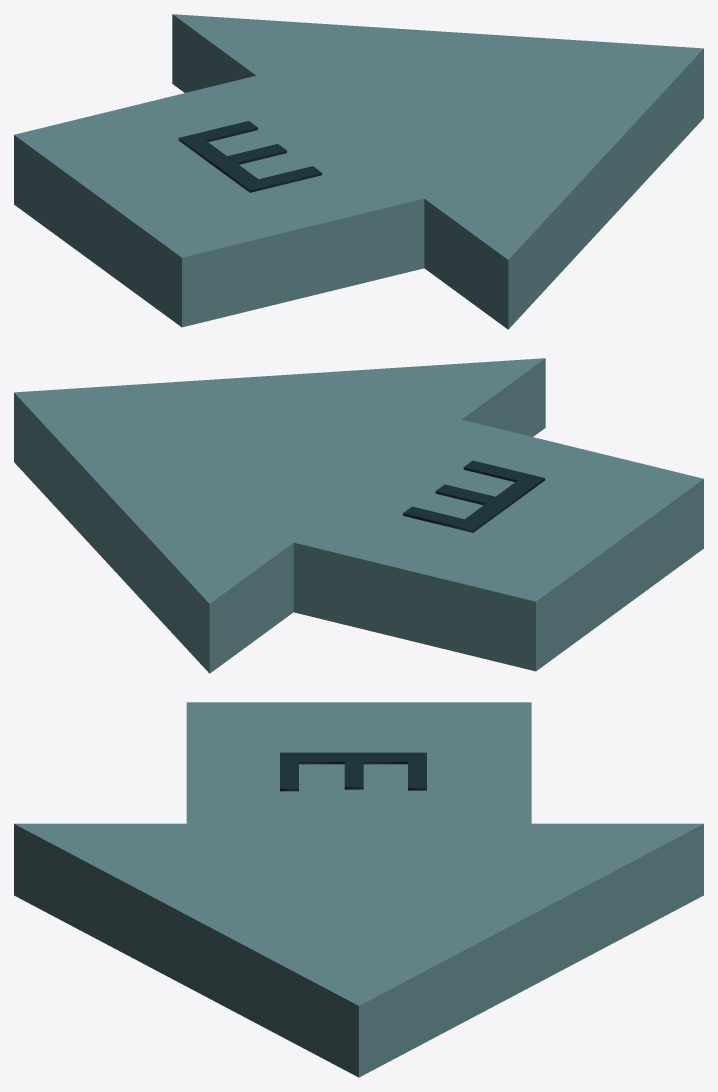
File: marcador_este.fbx
The picture shows the model from 3 angles, top to bottom: view 1: azimuth 30°, elevation 25°; view 2: azimuth 150°, elevation 25°; view 3: azimuth 270°, elevation 25°; orthographic projection. The views are drawn at different scales.
Parts seen in each view (by area): view 1: SM_Cardinal_este, TXT_Cardinal_este; view 2: SM_Cardinal_este, TXT_Cardinal_este; view 3: SM_Cardinal_este, TXT_Cardinal_este.
Part boxes in pixels (x1,y1,x2,y2): SM_Cardinal_este: [14, 14, 703, 329]; TXT_Cardinal_este: [178, 121, 321, 192]; SM_Cardinal_este: [14, 358, 703, 673]; TXT_Cardinal_este: [403, 460, 544, 532]; SM_Cardinal_este: [14, 702, 703, 1077]; TXT_Cardinal_este: [280, 752, 426, 791].
Size of the model in its own units: 0.5 by 0.06 by 0.48.
